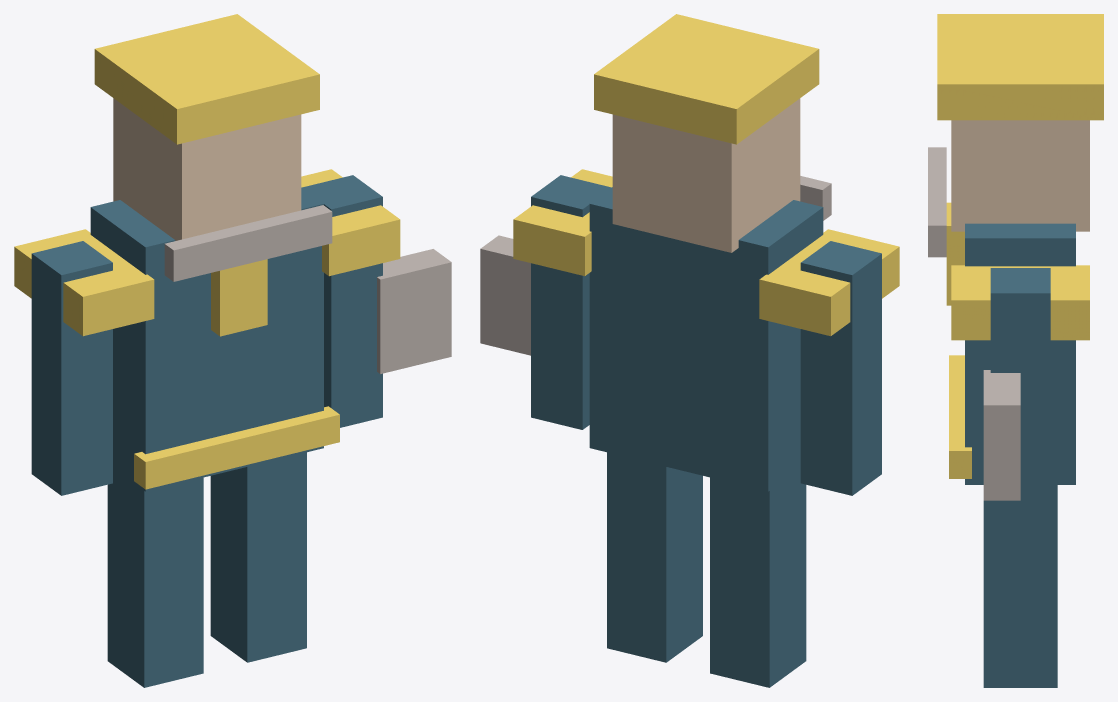
Rendered from 06_kael_ashvein_mechanist_of_chainlift.glb.
3 views of the same model, side by side, from view 1: azimuth 30°, elevation 25°; view 2: azimuth 150°, elevation 25°; view 3: azimuth 270°, elevation 25° (orthographic).
Parts seen in each view (by area): view 1: Kael Ashvein, Mechanist of Chainlift; view 2: Kael Ashvein, Mechanist of Chainlift; view 3: Kael Ashvein, Mechanist of Chainlift.
Boxes of the visible parts, <box> form: Kael Ashvein, Mechanist of Chainlift: <box>14,14,451,687</box>; Kael Ashvein, Mechanist of Chainlift: <box>480,14,899,687</box>; Kael Ashvein, Mechanist of Chainlift: <box>928,14,1103,687</box>.
Size of the model in its own units: 1.01 by 1.48 by 0.3925.
